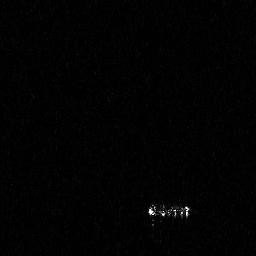ship: (144, 199, 193, 230)
